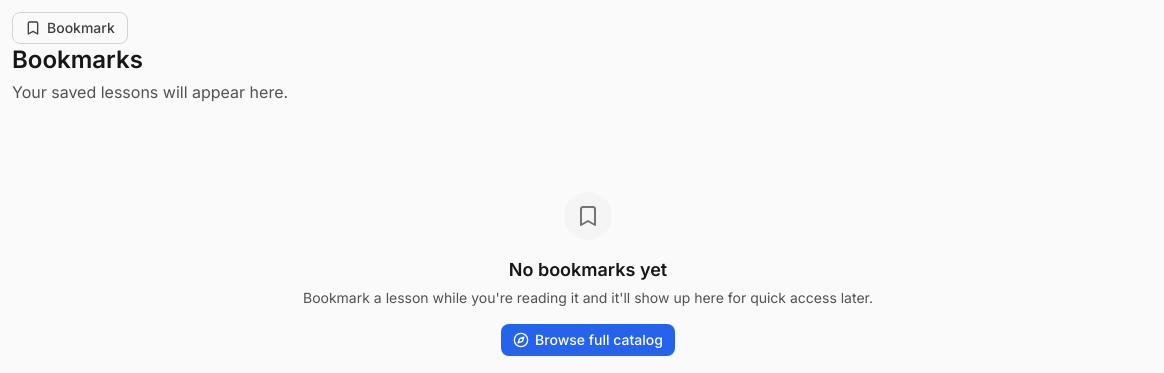
bookmarks › shows a bookmarked lesson on the Bookmarks page
What coordinates should you click on to do the following:
click the button "Bookmark"
I would click on:
 (70, 28)
Its box is [12,12,128,44].
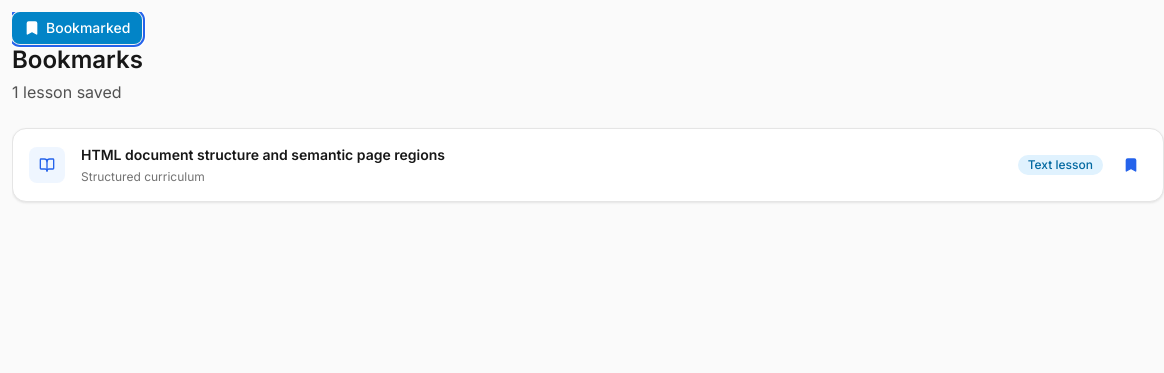
Check: the link "HTML document structure and semantic page regions" is shown, box [81,146,445,163]
